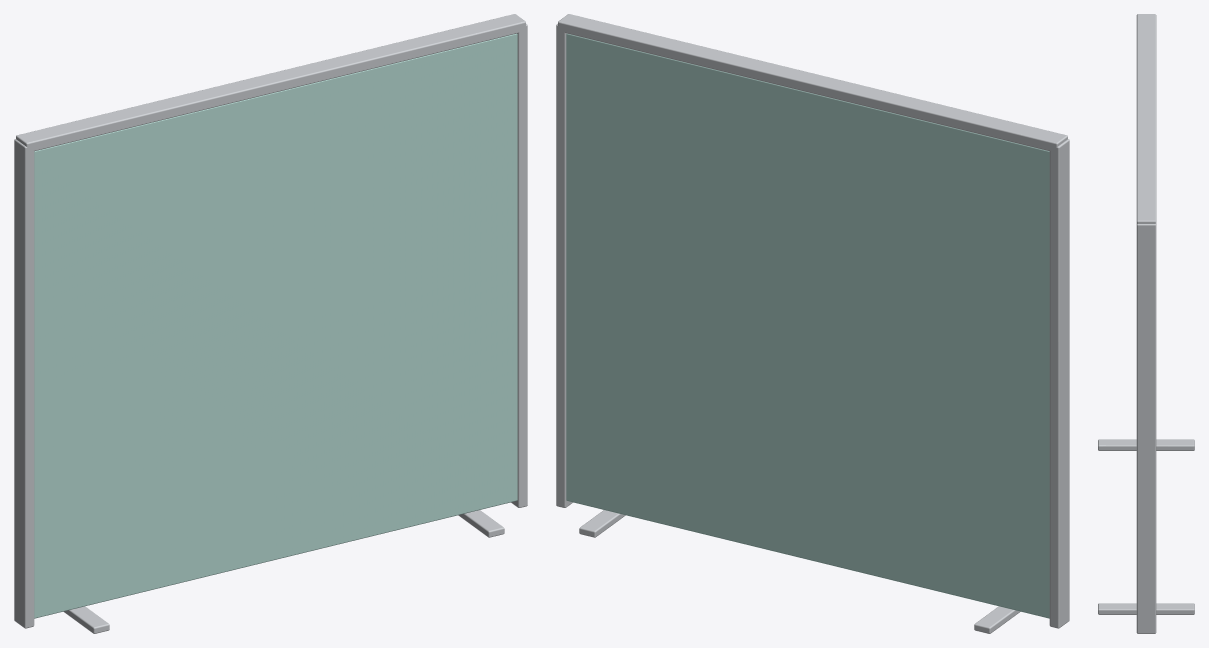
File: SM_CubiclePanel.fbx
3 renders of one model, left to right at view 1: azimuth 30°, elevation 25°; view 2: azimuth 150°, elevation 25°; view 3: azimuth 270°, elevation 25°, orthographic. The views are drawn at different scales.
Visible parts, largest first — view 1: SM_CubiclePanel; view 2: SM_CubiclePanel; view 3: SM_CubiclePanel.
Part boxes in pixels (left/top/right/bottom): SM_CubiclePanel: left=14, top=14, right=527, bottom=633; SM_CubiclePanel: left=556, top=14, right=1069, bottom=633; SM_CubiclePanel: left=1098, top=14, right=1194, bottom=633.
Bounding box in the file's own units: 1.53 × 1.41 × 0.3.
